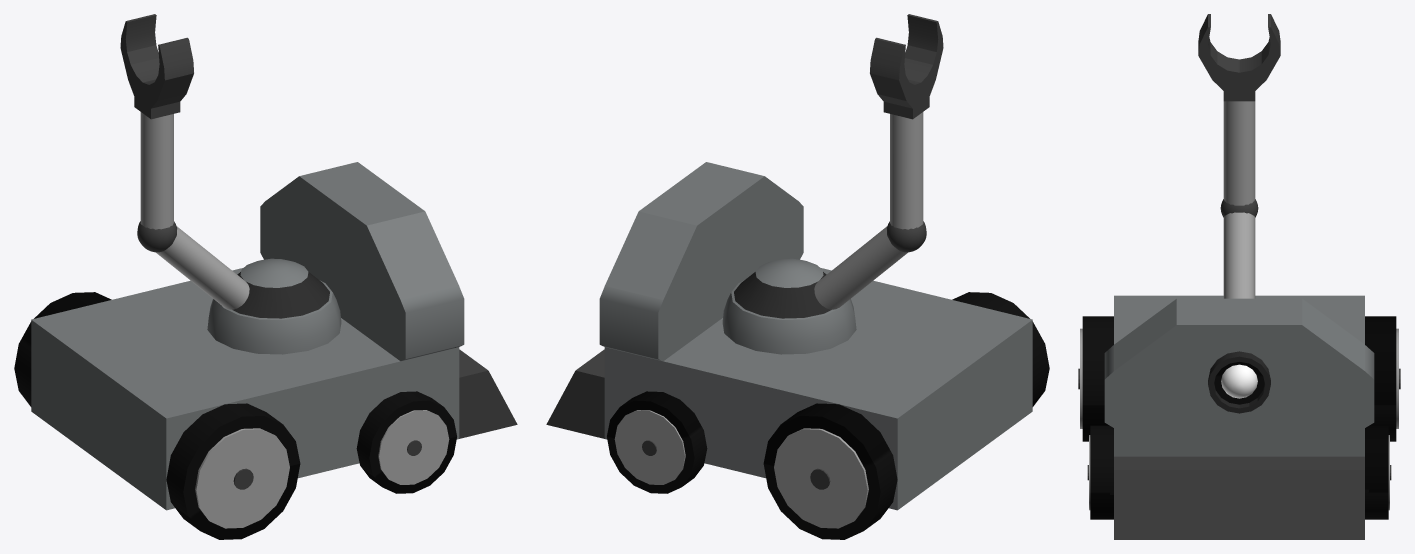
File: Robot_Type2.fbx
The picture shows the model from 3 angles, left to right: view 1: azimuth 30°, elevation 25°; view 2: azimuth 150°, elevation 25°; view 3: azimuth 270°, elevation 25°; orthographic projection. The views are drawn at different scales.
Parts seen in each view (by area): view 1: Robot_Type2; view 2: Robot_Type2; view 3: Robot_Type2, Light_Type2.
Boxes of the visible parts, x1,y1,x2,y2 form: Robot_Type2: (14,14,517,539); Robot_Type2: (546,14,1049,539); Robot_Type2: (1078,14,1400,539); Light_Type2: (1221,364,1257,398).
Bounding box in the file's own units: 6 × 7.3 × 5.14.
